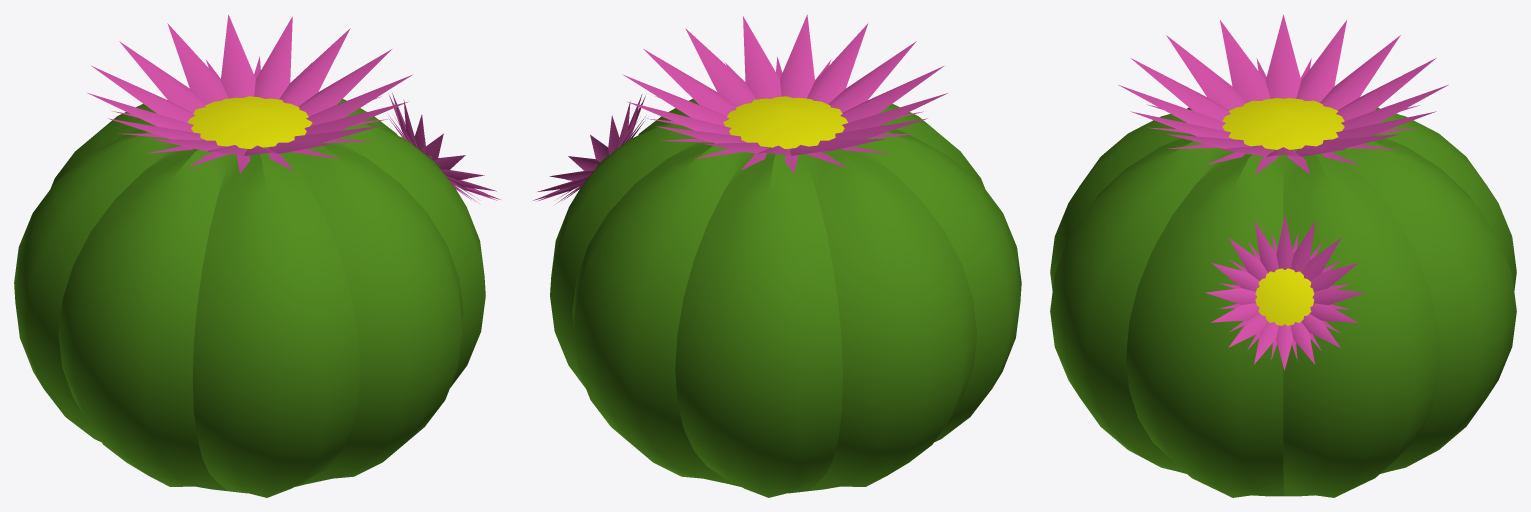
The model's file is cactus03.glb.
3 views of the same model, side by side, from view 1: azimuth 30°, elevation 25°; view 2: azimuth 150°, elevation 25°; view 3: azimuth 270°, elevation 25° (orthographic).
Parts seen in each view (by area): view 1: Cactus_03, Cactus_03_flowers; view 2: Cactus_03, Cactus_03_flowers; view 3: Cactus_03, Cactus_03_flowers.
Boxes of the visible parts, <box> form: Cactus_03: <box>14,99,485,497</box>; Cactus_03_flowers: <box>87,14,500,203</box>; Cactus_03: <box>550,99,1021,497</box>; Cactus_03_flowers: <box>533,14,947,203</box>; Cactus_03: <box>1050,107,1516,497</box>; Cactus_03_flowers: <box>1118,14,1448,370</box>.
Bounding box in the file's own units: 0.8025 × 0.6529 × 0.7348.
1 material, 1 textured.
